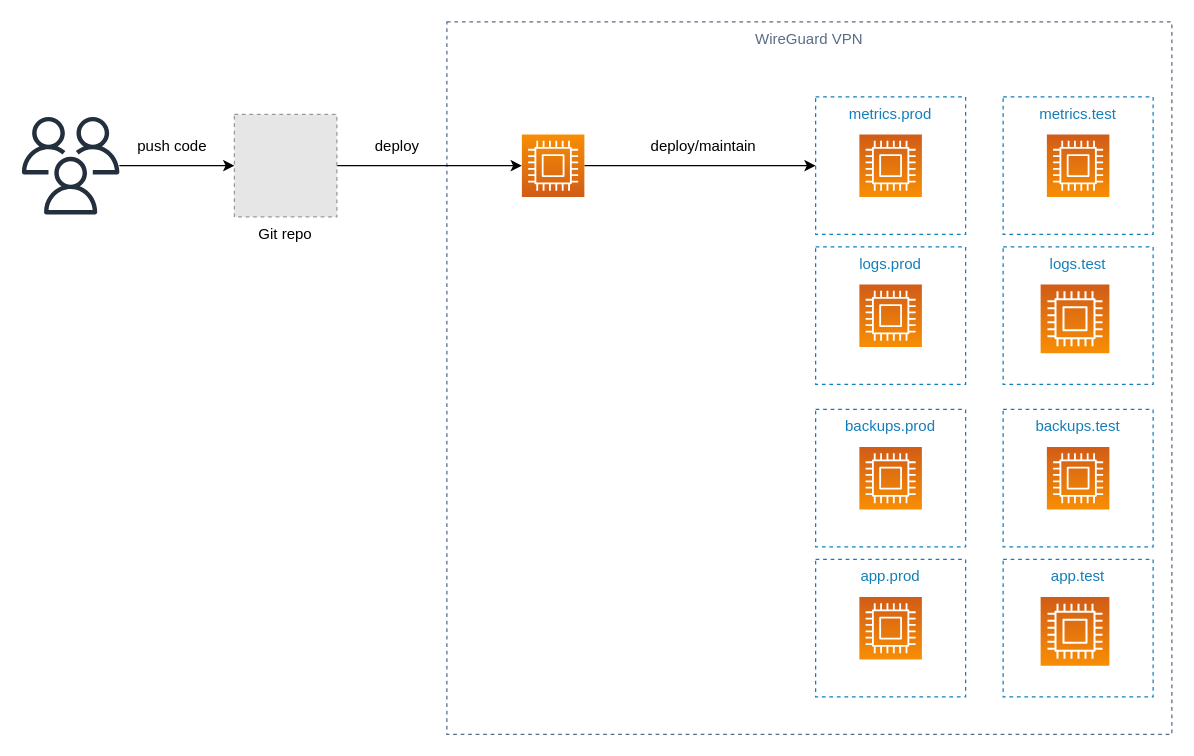
The diagram is 1194 pixels wide and 756 high, and some of its shapes have lost their labels. Grey dashed boxes stand in for pictures. The centre of each missing label's shape, as x and y in pixels:
devops: point (70, 165)
Monitoring VM/ Github Runner: point (552, 165)
